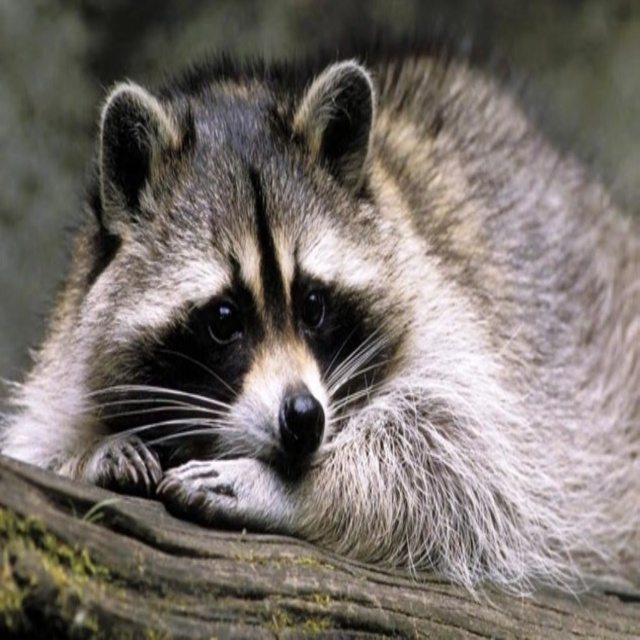Raccoon: (0, 0, 640, 607)
